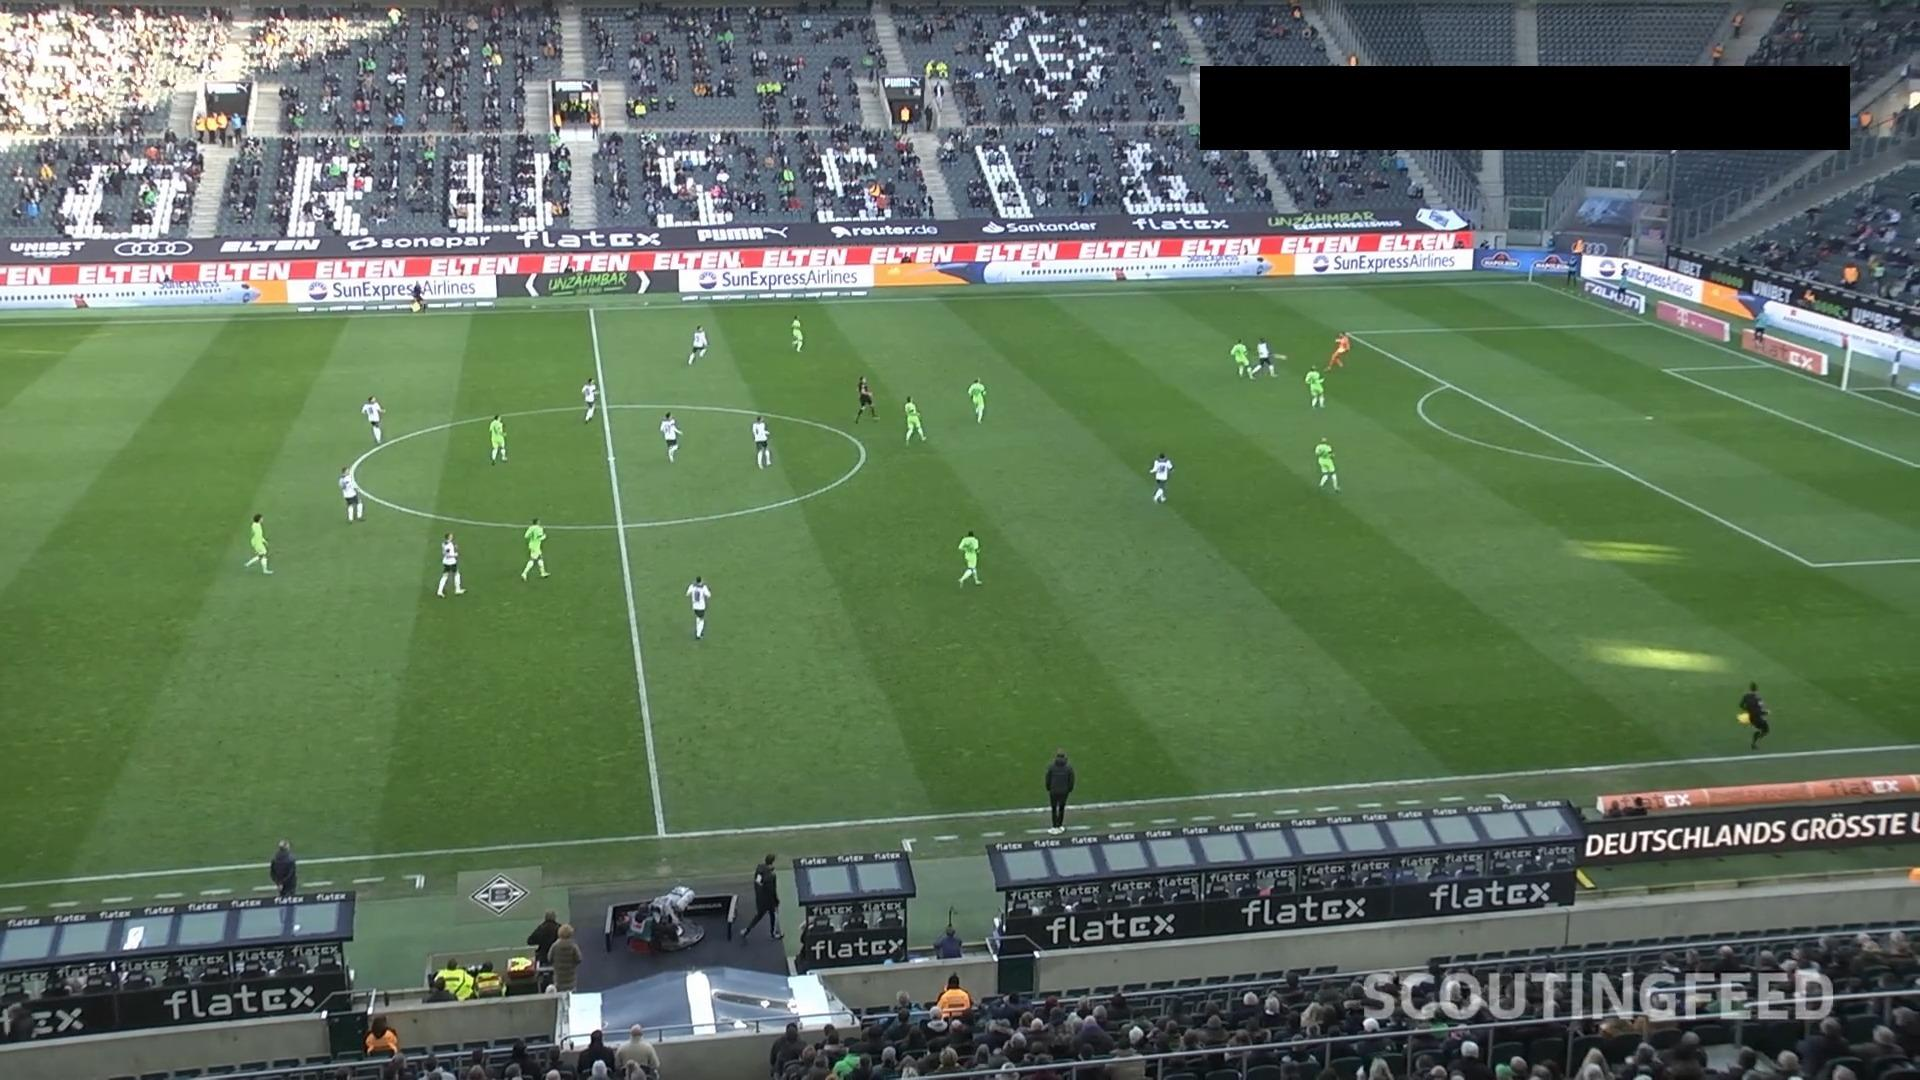coach: (526, 909, 561, 991), (1044, 749, 1074, 832), (269, 838, 297, 900)
player: (435, 531, 465, 597), (519, 517, 549, 580), (243, 512, 272, 574), (684, 575, 711, 638), (337, 466, 364, 522), (1313, 437, 1340, 492), (956, 529, 981, 586), (1148, 450, 1173, 503), (658, 411, 682, 463), (361, 395, 385, 444), (750, 414, 771, 468), (902, 395, 925, 444), (1250, 336, 1276, 377), (487, 414, 507, 463), (1303, 365, 1325, 408), (1325, 330, 1349, 369), (1229, 339, 1252, 378), (686, 323, 707, 365), (967, 377, 986, 423), (580, 377, 598, 422), (789, 315, 803, 352)
referee: (740, 852, 784, 942), (1737, 680, 1770, 748), (853, 374, 879, 423), (407, 280, 426, 312), (1615, 262, 1628, 299), (1565, 258, 1577, 288)
